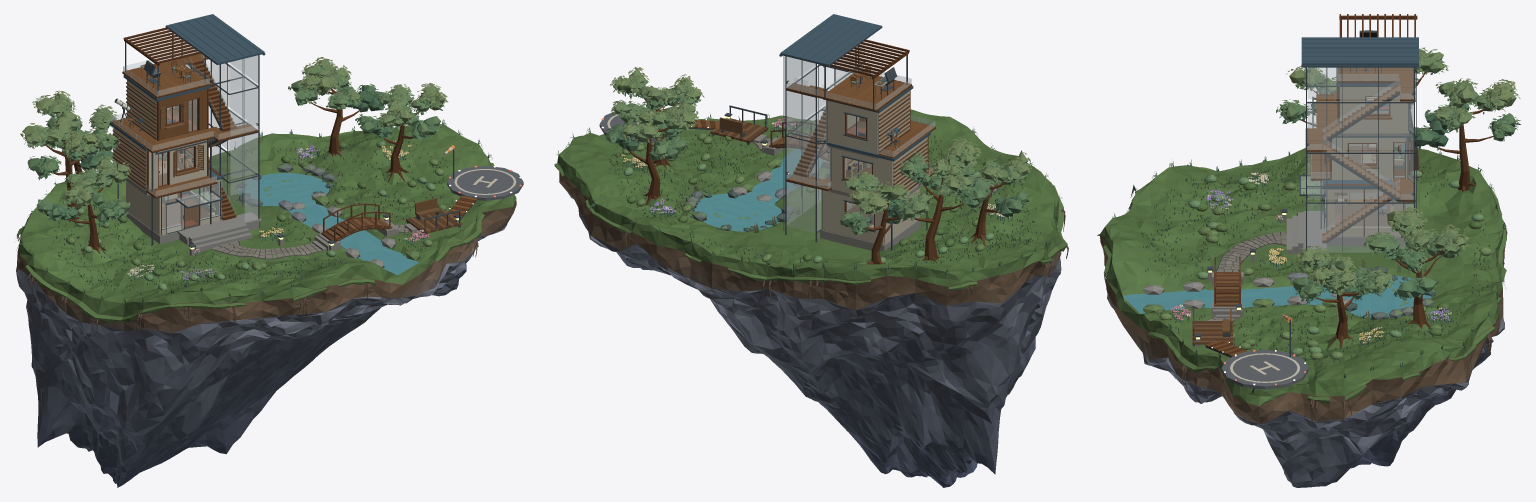
The model's file is island_b.glb.
3 views of the same model, side by side, from view 1: azimuth 30°, elevation 25°; view 2: azimuth 150°, elevation 25°; view 3: azimuth 270°, elevation 25° (orthographic). The views are drawn at different scales.
Parts seen in each view (by area): view 1: Island, Rock, House, Trees, Glass, Turf, Water, Paths, Pad, Interiors, Flowers, Props; view 2: Island, Rock, House, Trees, Glass, Turf, Water, Paths, Flowers, Pad, Interiors, Props; view 3: Island, House, Glass, Trees, Rock, Turf, Water, Pad, Paths, Interiors, Flowers, Props.
Part boxes in pixels (box(x1,y1,x2,y2)): Island: box(16, 124, 516, 333); Rock: box(16, 164, 507, 487); House: box(110, 14, 265, 252); Trees: box(20, 57, 448, 254); Glass: box(111, 42, 257, 232); Turf: box(16, 119, 494, 332); Water: box(238, 173, 419, 275); Paths: box(210, 198, 462, 259); Pad: box(444, 145, 523, 219); Interiors: box(158, 99, 215, 228); Flowers: box(127, 140, 429, 282); Props: box(114, 60, 461, 255); Island: box(557, 109, 1062, 310); Rock: box(562, 119, 1061, 487); House: box(779, 14, 935, 251); Trees: box(605, 67, 1031, 264); Glass: box(787, 44, 935, 232); Turf: box(554, 113, 1068, 302); Water: box(694, 134, 822, 231); Paths: box(710, 105, 829, 161); Flowers: box(621, 118, 1013, 221); Pad: box(599, 105, 719, 143); Interiors: box(846, 121, 873, 227); Props: box(724, 67, 924, 212); Island: box(1100, 148, 1504, 423); House: box(1286, 14, 1419, 255); Glass: box(1301, 67, 1415, 252); Trees: box(1276, 47, 1520, 348); Rock: box(1106, 256, 1504, 487); Turf: box(1097, 146, 1507, 424); Water: box(1123, 275, 1431, 318); Pad: box(1205, 314, 1308, 393); Paths: box(1192, 230, 1286, 346); Interiors: box(1325, 97, 1404, 226); Flowers: box(1171, 172, 1451, 346); Props: box(1195, 30, 1376, 346).
Bounding box in the file's own units: 35.12 × 29.79 × 24.4.
